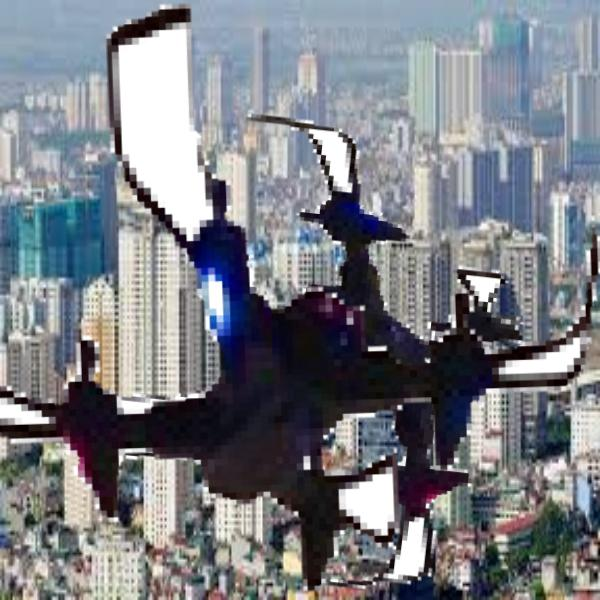drone: (50, 100, 543, 593)
